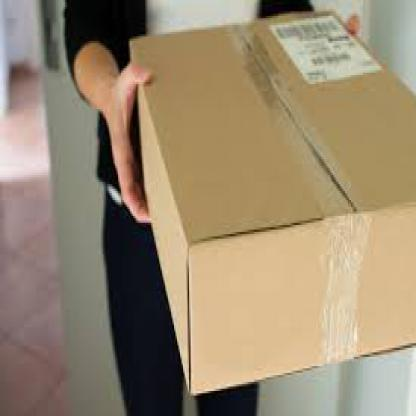paquete: (122, 23, 414, 404)
